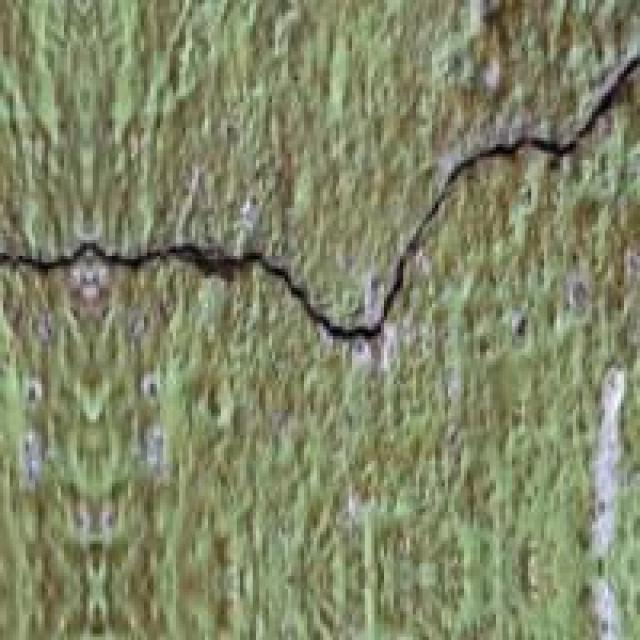Crack: (6, 77, 637, 342)
